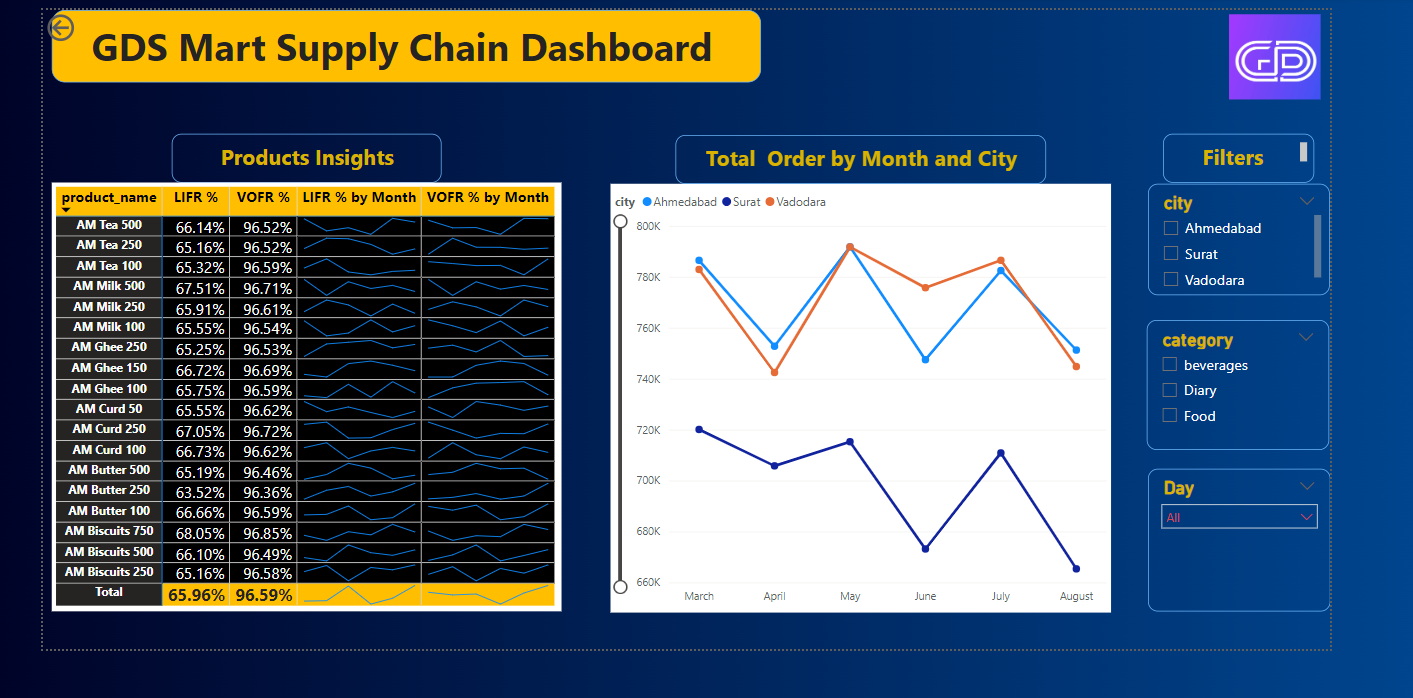

This screenshot's page, from the dashboard's own definition file:
{"tool":"powerbi","page":{"name":"Page 2","canvas":[1450,720],"ordinal":1},"visuals":[{"type":"textbox","box":[9.8,0,799.5,81.9],"z":0},{"type":"textbox","box":[144.9,139.7,303.8,55.1],"z":1000},{"type":"pivotTable","fields":{"Rows":["dim_products.product_name"],"Values":["All Measure.LIFR %","All Measure.VOFR %","SparklineData(All Measure.LIFR %_[dim_date.date.Variation.Date Hierarchy.Month])","SparklineData(All Measure.VOFR %_[dim_date.date.Variation.Date Hierarchy.Month])"]},"box":[10.3,194.9,574.4,483.3],"z":2000},{"type":"actionButton","box":[0,0,100,40],"z":3000},{"type":"lineChart","fields":{"Series":["dim_customers.city"],"Category":["dim_date.date.Variation.Date Hierarchy.Month","dim_date.date.Variation.Date Hierarchy.Day"],"Y":["All Measure.Total Order Quantity"]},"box":[639.7,196.2,564.1,483.3],"z":4000},{"type":"textbox","box":[712.8,141,417.9,55.1],"z":5000},{"type":"image","box":[1326.8,0,122.5,105.6],"z":6000},{"type":"slicer","fields":{"Values":["dim_customers.city"]},"box":[1244.9,196.2,205.1,125.6],"z":7000},{"type":"textbox","box":[1261.5,139.7,170.5,55.1],"z":8000},{"type":"slicer","fields":{"Values":["dim_products.category"]},"box":[1243.7,349.3,205.6,146.5],"z":9000},{"type":"slicer","fields":{"Values":["dim_date.date.Variation.Date Hierarchy.Day"]},"box":[1245.1,516.9,205.6,160.6],"z":10000}]}

Visuals, with their boxes in screenshot pixels (x1, y1, x2, y2), scaled from the page's 1450x720 canvas onto the 1413x698 screenshot:
textbox: [10,0,789,79]
textbox: [141,135,437,189]
pivotTable - dim_products.product_name x All Measure.LIFR %: [10,189,570,657]
actionButton: [0,0,97,39]
lineChart - dim_customers.city x dim_date.date.Variation.Date Hierarchy.Month: [623,190,1173,659]
textbox: [695,137,1102,190]
image: [1293,0,1412,102]
slicer - dim_customers.city: [1213,190,1412,312]
textbox: [1229,135,1395,189]
slicer - dim_products.category: [1212,339,1412,481]
slicer - dim_date.date.Variation.Date Hierarchy.Day: [1213,501,1412,657]
